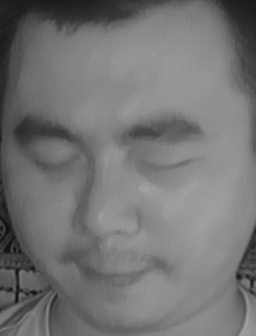blink: (143, 146, 202, 180), (33, 148, 82, 179)
mouth: (73, 247, 162, 301)
